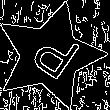P_SW: (19, 24, 81, 87)
